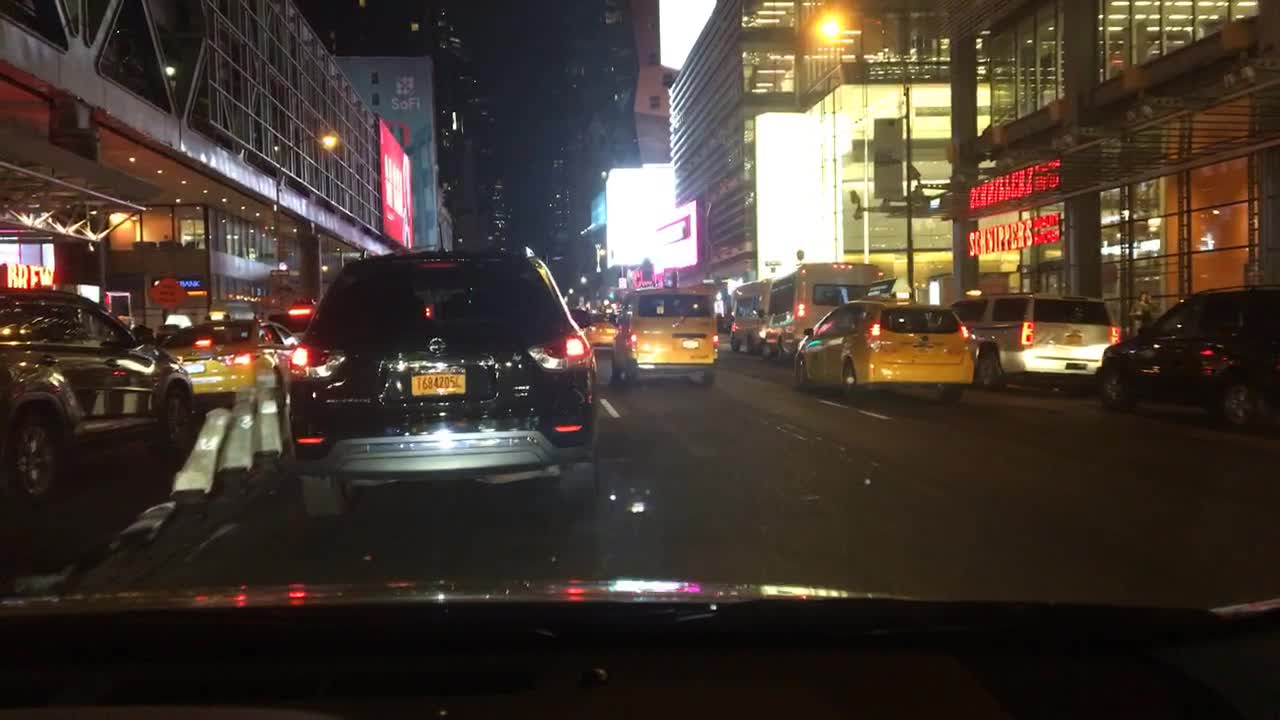bus: (767, 259, 886, 362), (728, 278, 773, 358)
car: (286, 220, 604, 521), (0, 286, 197, 513), (1093, 280, 1278, 436), (790, 272, 978, 405), (948, 291, 1124, 394), (154, 316, 299, 410), (608, 285, 721, 392), (584, 315, 620, 347), (569, 309, 586, 327)
person: (1126, 290, 1152, 342)
traffic light: (608, 290, 614, 299)
traffic sign: (270, 269, 288, 275), (619, 279, 627, 289)
